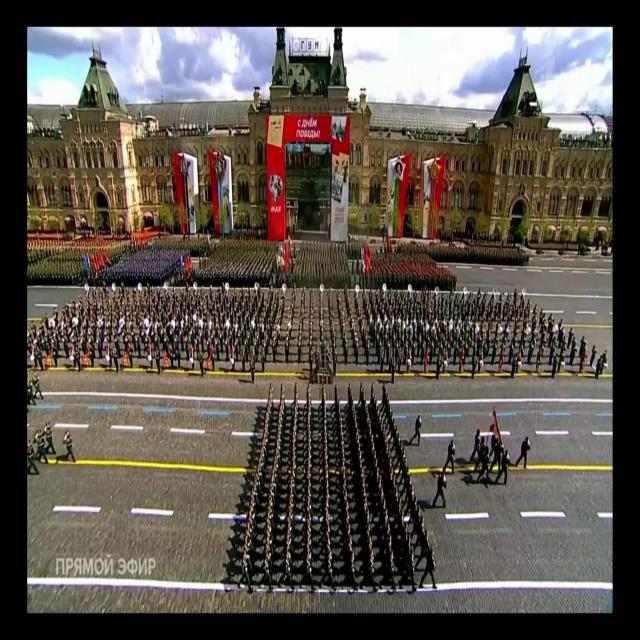Soldier: (420, 550, 436, 591), (400, 551, 416, 592), (379, 550, 395, 591), (361, 550, 375, 593), (320, 556, 335, 592), (343, 552, 356, 593), (280, 550, 294, 588), (300, 553, 314, 590), (417, 530, 429, 571), (432, 472, 446, 507), (497, 451, 511, 486), (444, 436, 456, 474), (260, 552, 272, 590), (518, 435, 532, 467), (240, 552, 250, 593), (479, 448, 491, 482), (37, 433, 48, 468), (27, 442, 38, 473), (65, 428, 75, 461), (415, 518, 424, 552), (412, 416, 422, 446), (45, 420, 54, 453), (471, 427, 480, 459), (406, 487, 414, 516), (413, 506, 420, 539), (534, 349, 542, 376), (497, 347, 505, 373), (434, 353, 442, 379), (389, 417, 396, 445), (356, 383, 364, 407), (404, 478, 410, 509), (526, 342, 534, 365), (393, 433, 399, 462), (332, 344, 337, 377), (368, 383, 374, 410), (406, 347, 412, 374), (260, 449, 266, 476), (552, 353, 558, 379), (380, 383, 386, 407), (459, 348, 465, 372), (559, 348, 565, 371), (590, 345, 596, 367), (596, 356, 602, 378), (567, 328, 573, 350), (490, 344, 496, 366), (354, 338, 359, 364), (379, 348, 384, 374), (516, 349, 521, 375), (258, 458, 263, 484), (346, 383, 351, 408), (511, 354, 516, 378), (508, 342, 514, 362), (416, 335, 421, 359), (285, 334, 289, 363), (244, 533, 250, 552), (261, 343, 265, 371), (391, 357, 395, 385), (580, 334, 585, 356), (270, 384, 274, 411), (298, 336, 302, 363), (272, 336, 276, 363), (424, 347, 428, 374), (571, 346, 577, 364), (308, 337, 312, 363), (366, 340, 370, 366), (472, 354, 476, 379), (443, 349, 447, 374), (398, 349, 402, 374), (386, 342, 390, 367), (344, 340, 348, 364), (478, 350, 482, 372), (549, 344, 553, 364), (363, 324, 366, 348), (247, 521, 251, 538), (248, 514, 252, 528), (365, 331, 367, 347), (354, 332, 356, 342), (574, 336, 575, 347)
